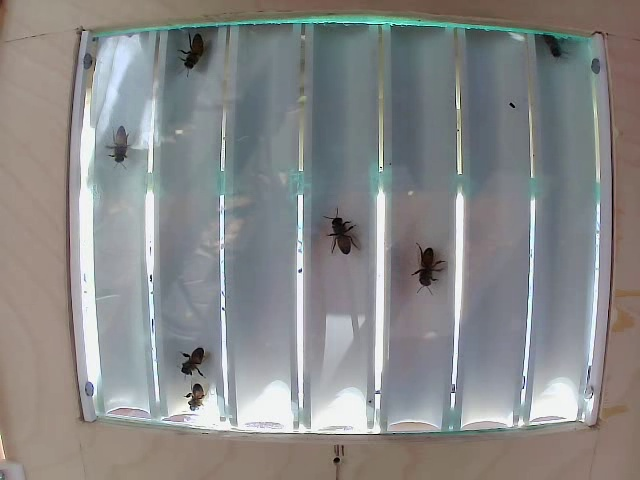bee: (408, 231, 451, 286), (328, 210, 370, 259), (99, 121, 151, 159), (176, 44, 221, 81), (182, 348, 219, 380)
